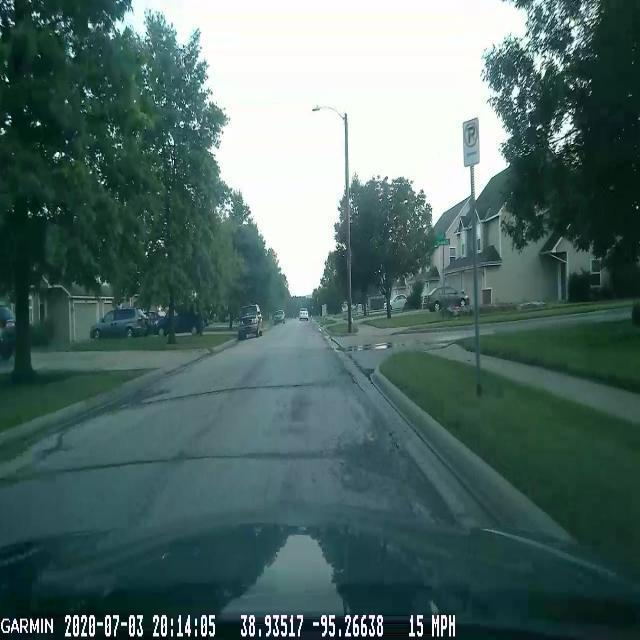pothole: (333, 412, 417, 508)
